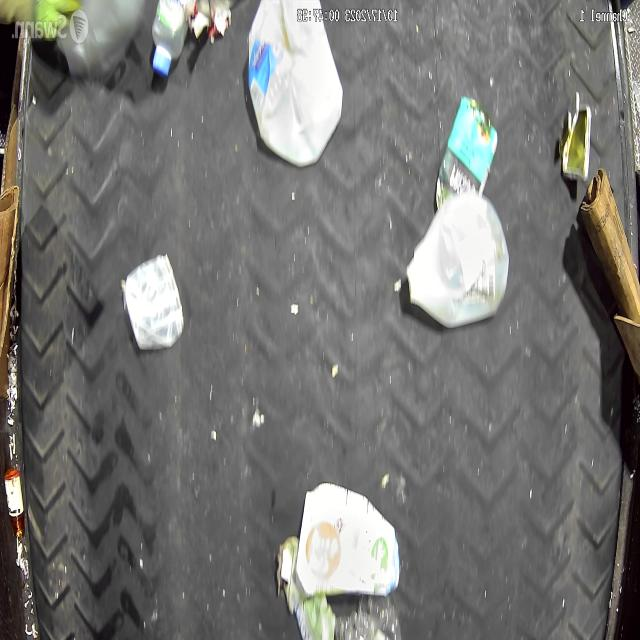milk_jug: (245, 0, 342, 166), (404, 194, 509, 327)
non_white_jug: (299, 485, 402, 599)
